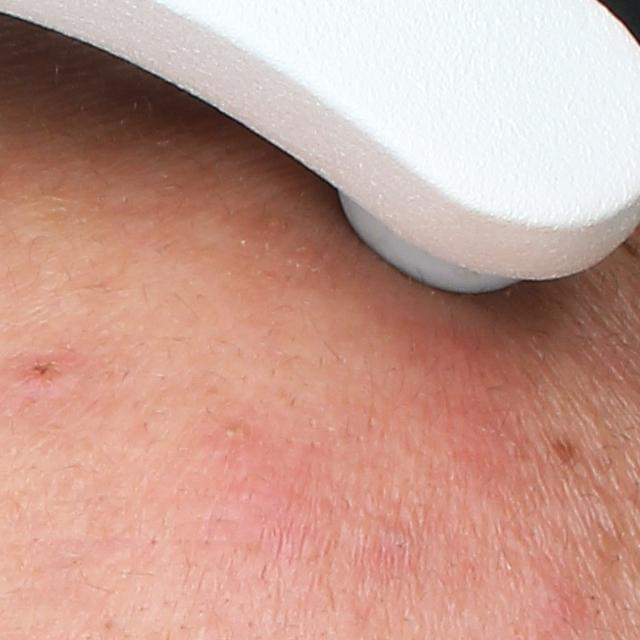nevus: (546, 425, 584, 471)
papule: (2, 352, 79, 399)
